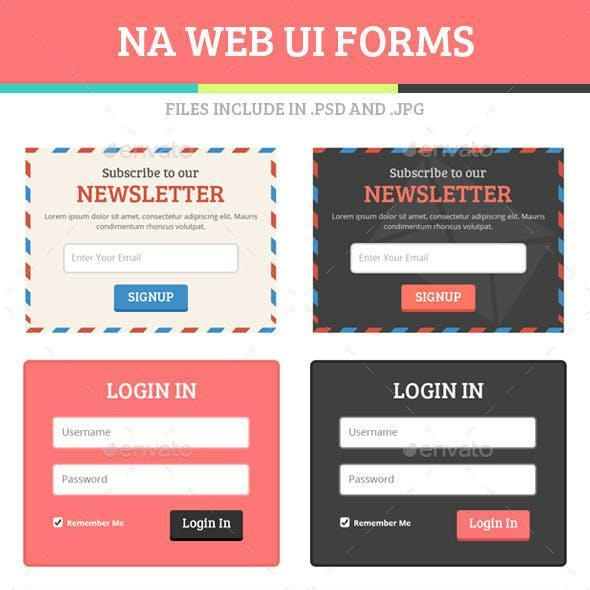button: (170, 509, 245, 543), (114, 284, 190, 314), (458, 511, 531, 542), (402, 285, 477, 313)
checkbox: (54, 518, 65, 529), (341, 518, 351, 529)
input: (341, 418, 538, 449), (54, 418, 251, 449), (341, 465, 537, 496), (54, 466, 248, 495), (351, 244, 527, 275), (65, 245, 239, 274)
label: (67, 519, 127, 530), (354, 520, 414, 531)
